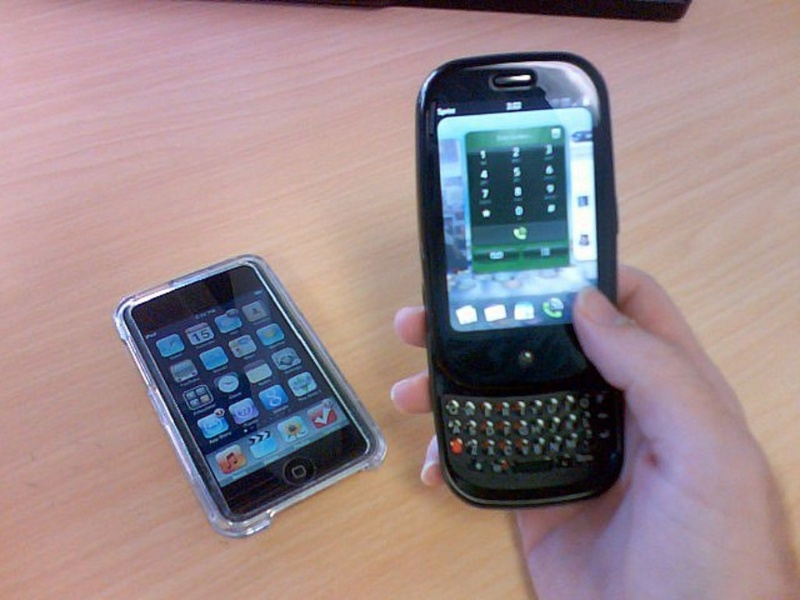cellphone: (400, 55, 641, 509), (100, 247, 389, 545)
